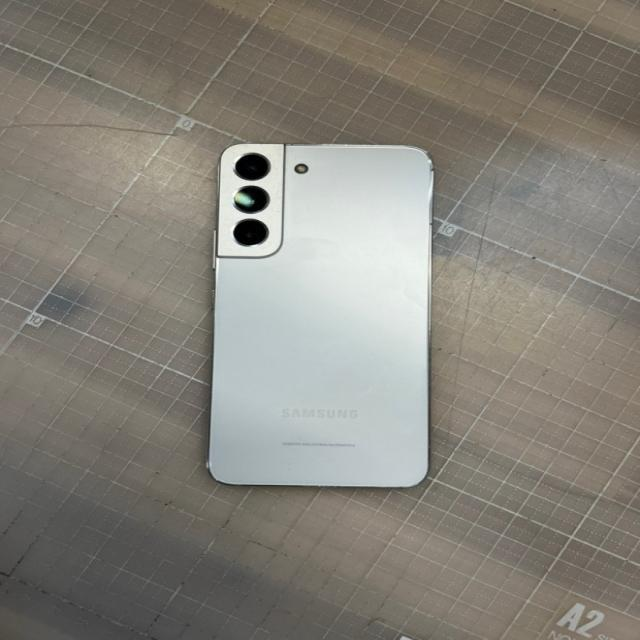phone: (206, 140, 436, 488)
